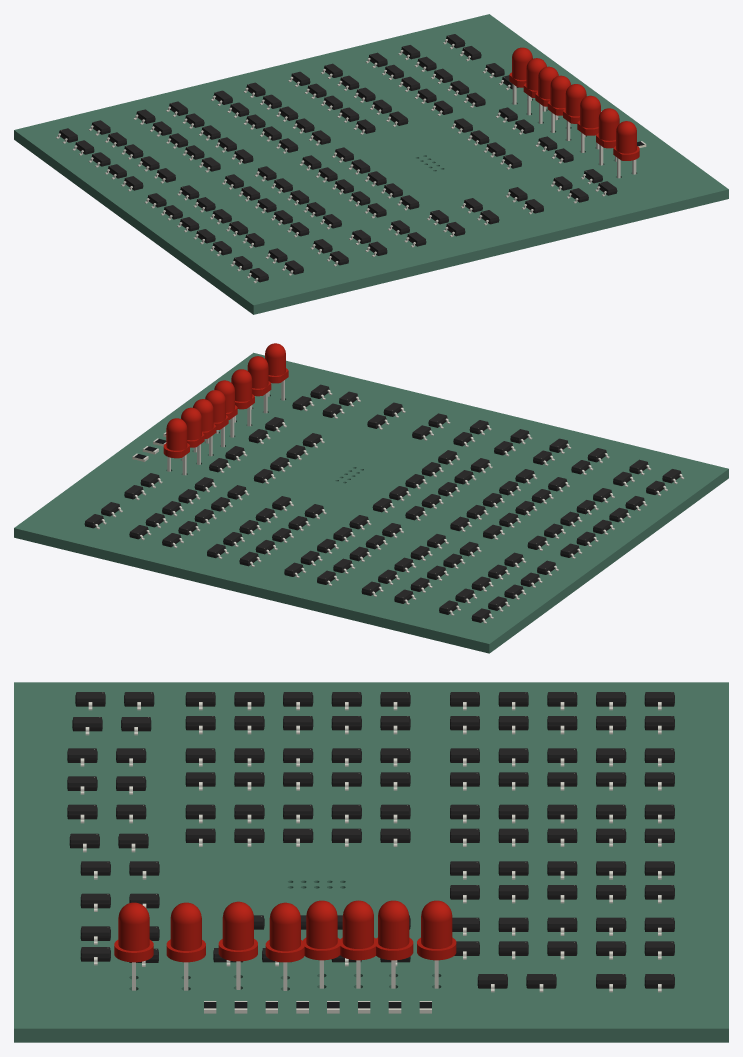
File: led_panel_1.glb
3 renders of one model, top to bottom at view 1: azimuth 30°, elevation 25°; view 2: azimuth 150°, elevation 25°; view 3: azimuth 270°, elevation 25°, orthographic. The views are drawn at different scales.
Visible parts, largest first — view 1: =>[0:1:1:5], D108, D106, D107, D105, D102, D104, D103, D101; view 2: =>[0:1:1:5], D102, D106, D108, D107, D101, D104, D103, D105; view 3: =>[0:1:1:5], D107, D102, D105, D106, D101, D108, D104, D103.
Boxes of the visible parts, x1,y1,x2,y2 form: =>[0:1:1:5]: (14,14,728,314); D108: (613,121,639,178); D106: (577,95,600,152); D107: (596,108,619,165); D105: (563,84,586,140); D102: (509,47,532,104); D104: (547,75,570,132); D103: (535,66,558,123); D101: (523,58,546,115); =>[0:1:1:5]: (14,352,728,653); D102: (163,418,189,475); D106: (231,369,254,426); D108: (265,343,288,400); D107: (247,356,271,413); D101: (181,407,204,464); D104: (205,390,228,447); D103: (193,399,216,456); D105: (214,380,237,437); =>[0:1:1:5]: (14,682,728,1042); D107: (166,902,205,990); D102: (417,900,456,988); D105: (265,902,304,990); D106: (218,901,257,989); D101: (374,900,413,988); D108: (114,902,153,990); D104: (303,900,341,988); D103: (339,900,377,988).
Bounding box in the file's own units: 0.0785 × 0.0108 × 0.0685.
